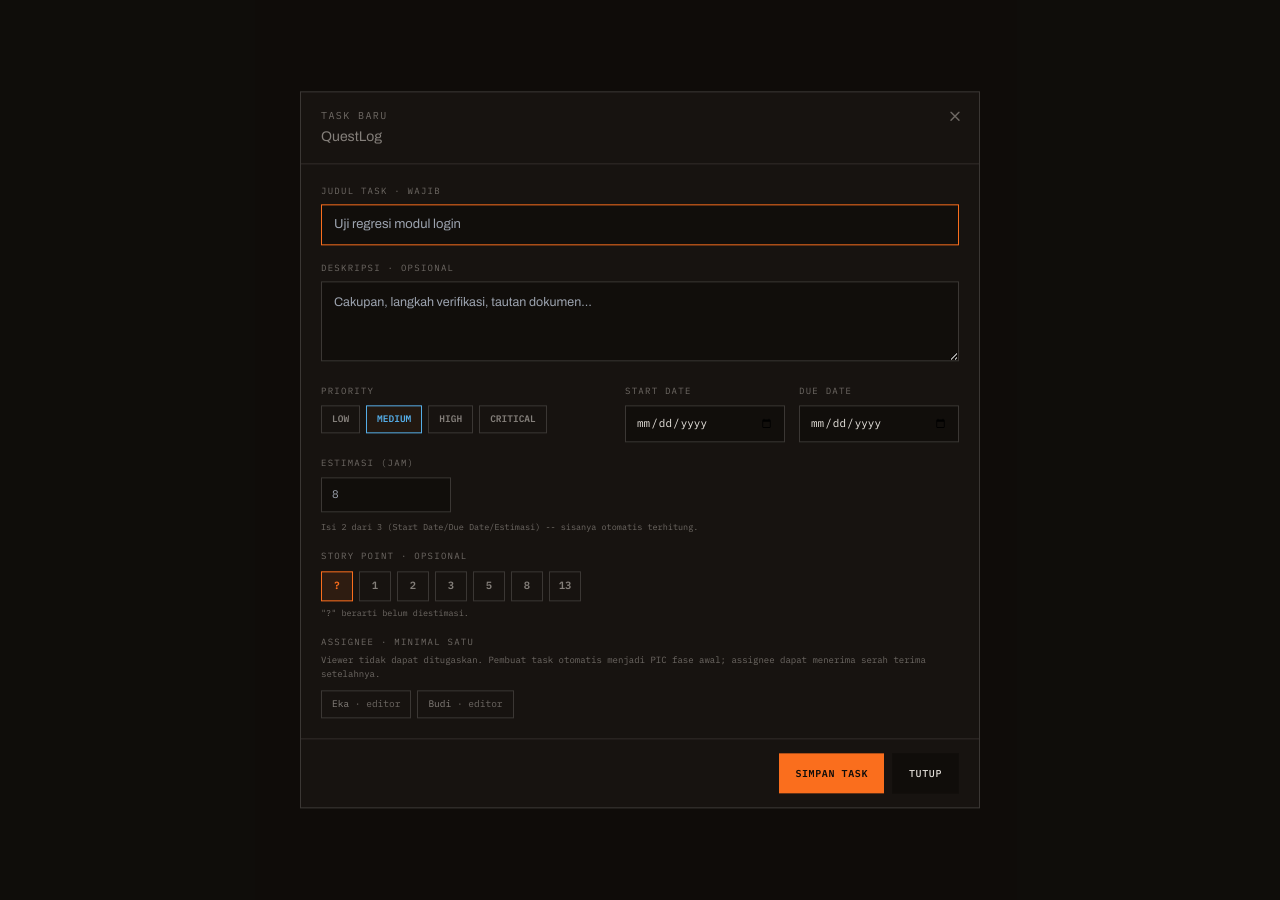
Test case: AddTaskModal › PM: semua member bisa dipilih dan story point tersedia
Check: the text "STORY POINT · OPSIONAL" is shown, box [321,551,468,562]
Check: the button "Budi · editor" is enabled, box [417,690,514,719]
Type "Task PM" into the field with placeholder "Uji regresi modul login" at (640, 225), box [321,204,959,245]
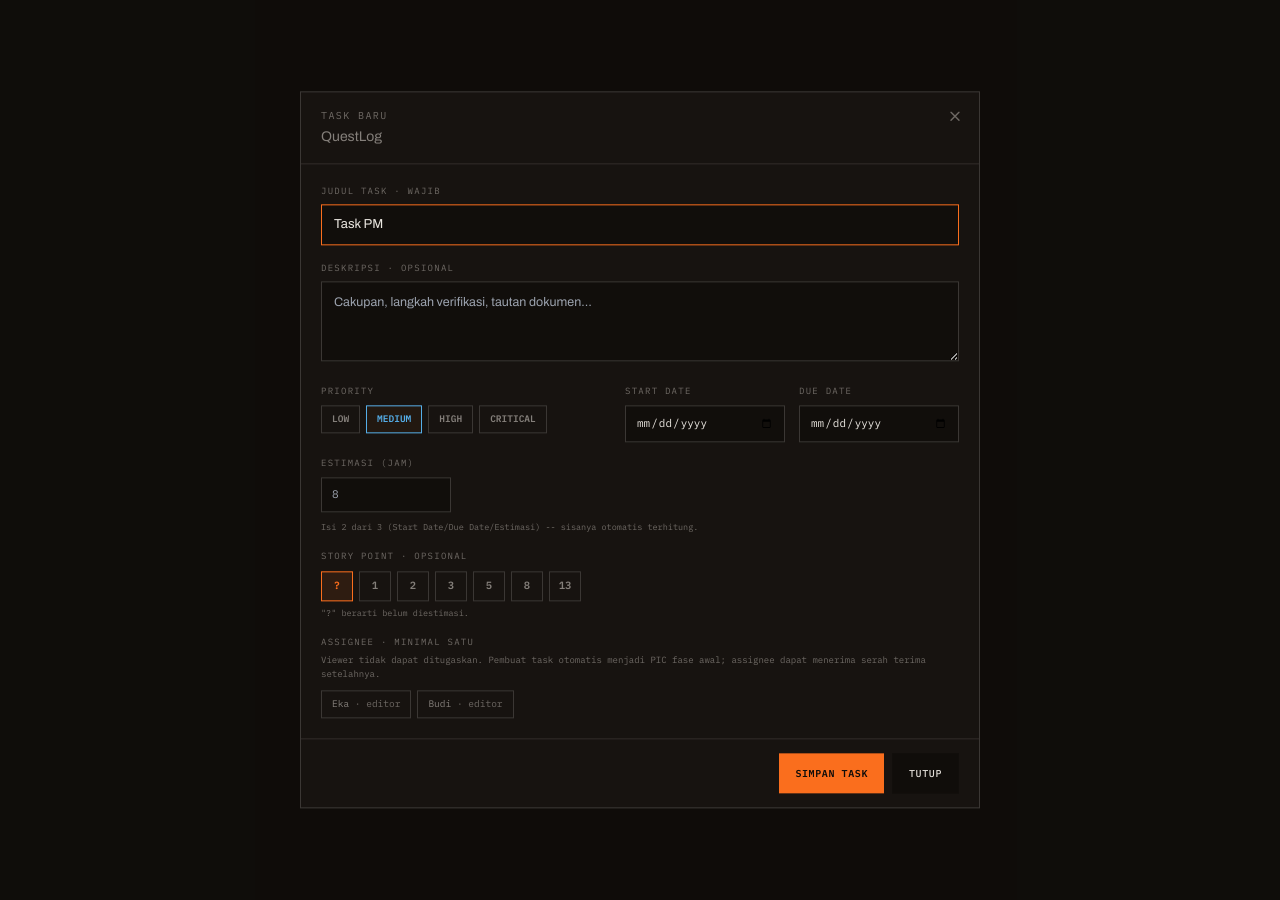
Click the button "Simpan Task" at (832, 774), box [779,754,884,794]
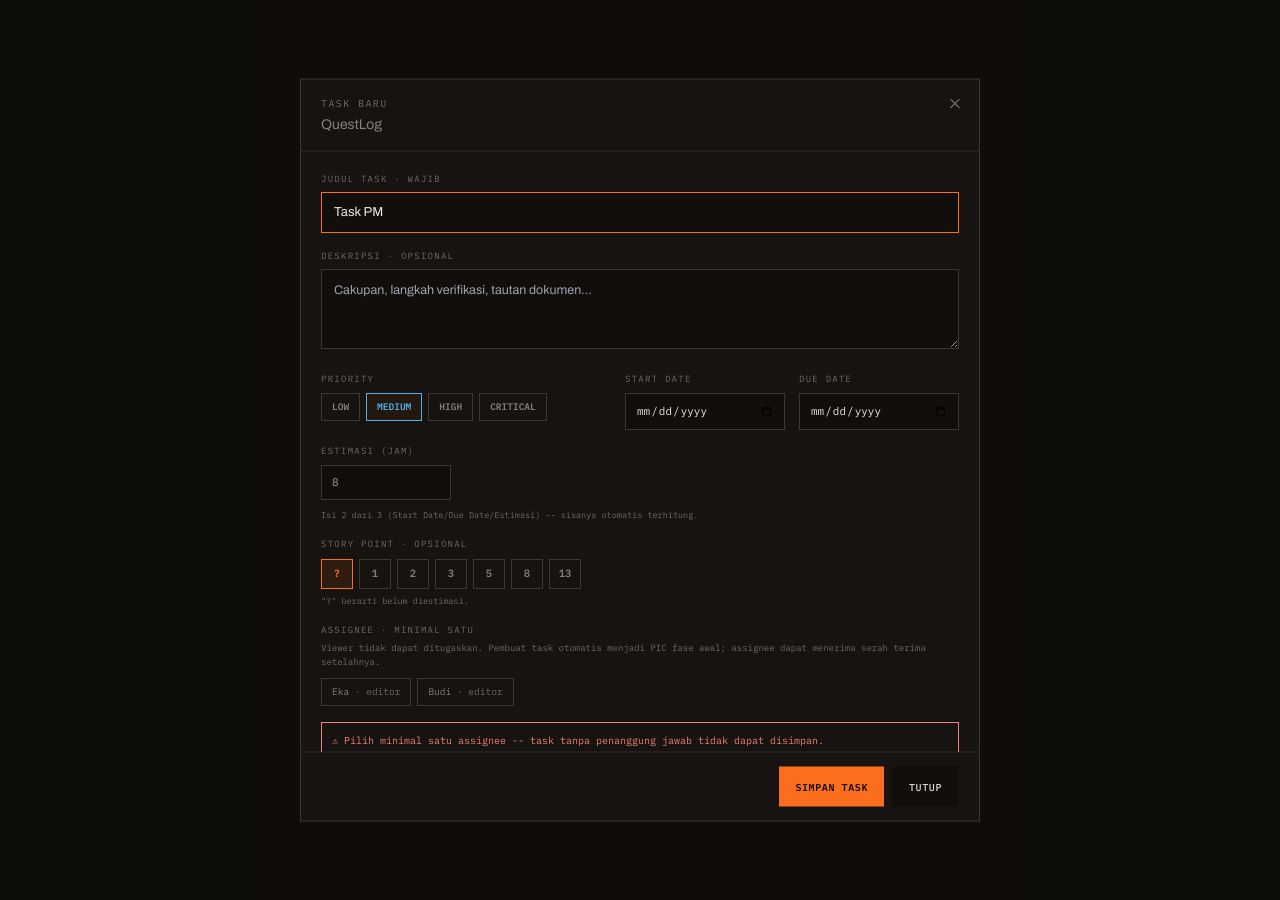
Check: the text "minimal satu assignee" is shown, box [344,734,824,747]
